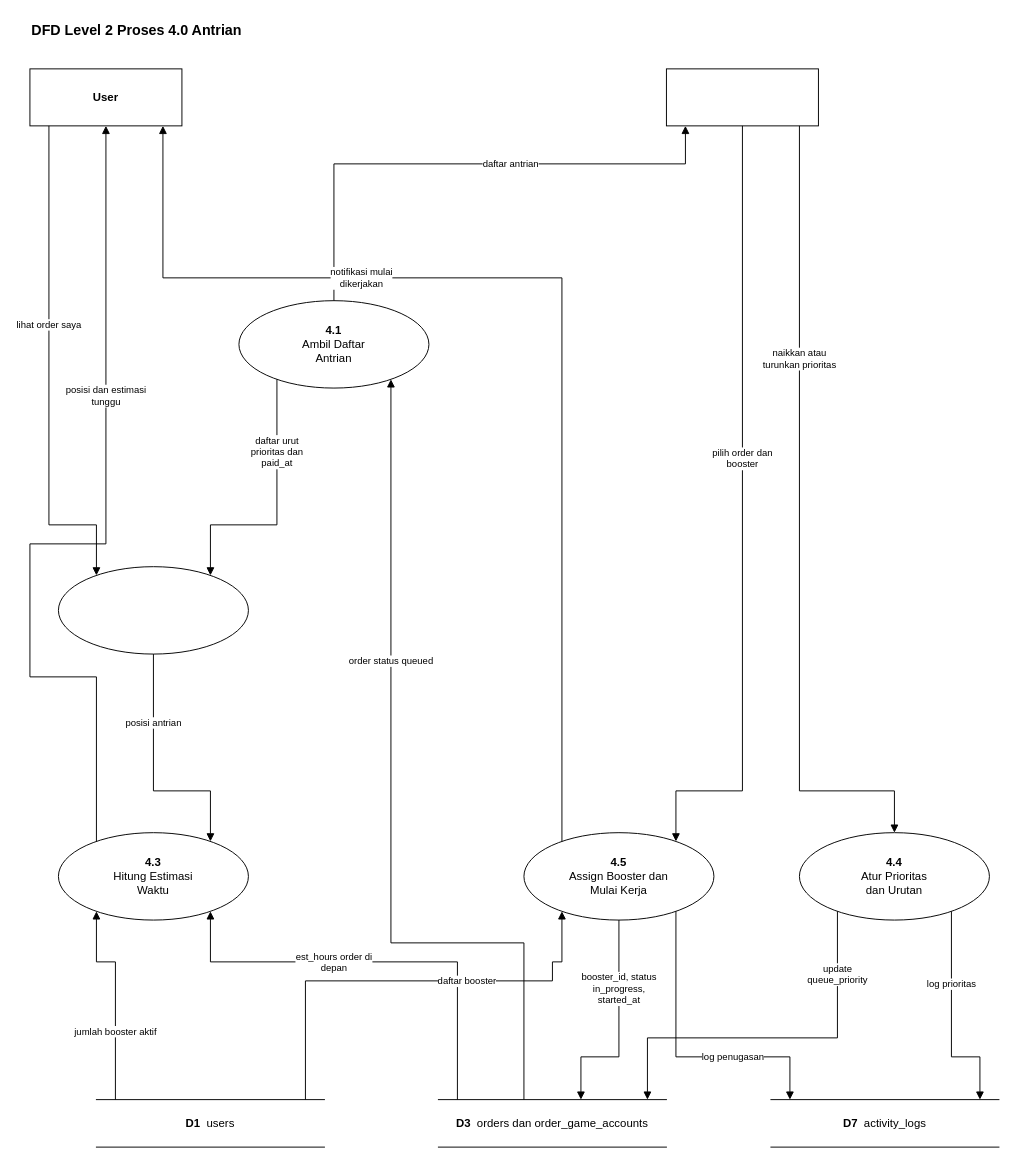
This 1016x1164 diagram has some shape labels left out. Here are the shapes that lost their labels. From the top down, the centre of each, then its label:
At (x=741, y=97): "Admin / Owner".
At (x=152, y=610): "4.2 Hitung Posisi Antrian".
